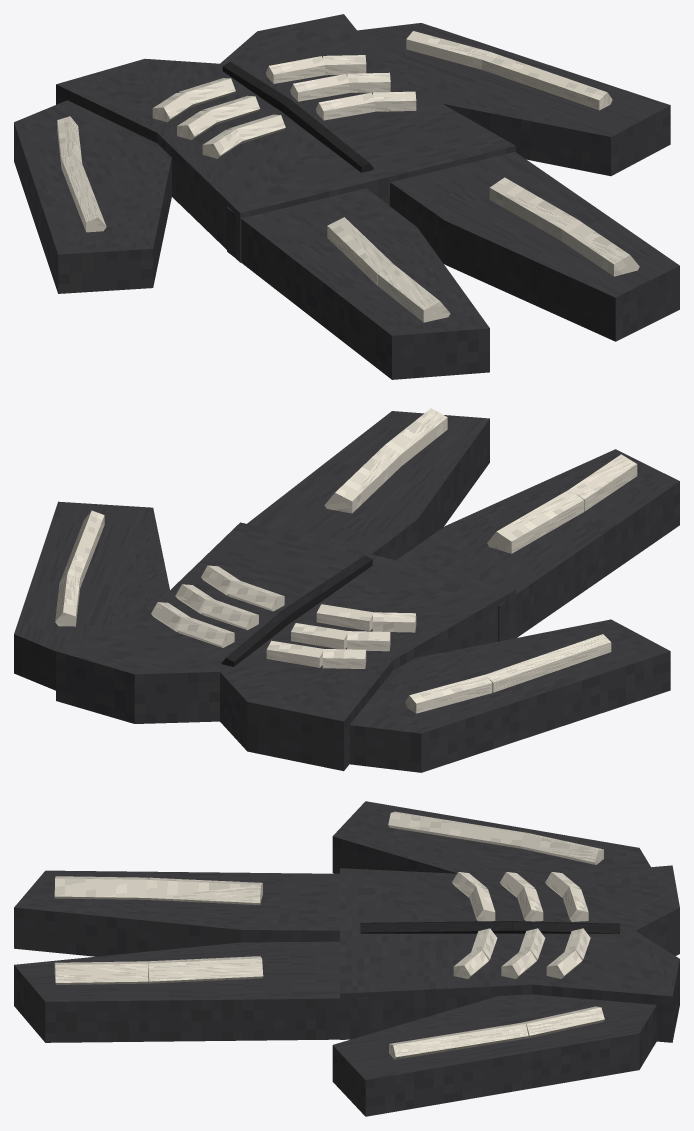
The model's file is jumpsuit_skeleton.glb.
3 renders of one model, top to bottom at view 1: azimuth 30°, elevation 25°; view 2: azimuth 150°, elevation 25°; view 3: azimuth 270°, elevation 25°, orthographic. The views are drawn at different scales.
Parts seen in each view (by area): view 1: block_leg (×2), block_sleeve (×2), block_one-piece torso, block_printed rib 0 (×6), block_printed rib 1 (×6), block_printed arm bone 1 (×2), block_printed shin bone 0 (×2), block_printed shin bone 1 (×2), block_printed arm bone 0 (×2), block_body zip 1, block_body zip 0; view 2: block_one-piece torso, block_sleeve (×2), block_leg (×2), block_printed rib 0 (×6), block_printed shin bone 0 (×2), block_printed rib 1 (×6), block_printed arm bone 1 (×2), block_printed shin bone 1 (×2), block_printed arm bone 0 (×2), block_body zip 1, block_body zip 0; view 3: block_leg (×2), block_one-piece torso, block_sleeve (×2), block_printed shin bone 0 (×2), block_printed arm bone 1 (×2), block_printed shin bone 1 (×2), block_printed rib 0 (×6), block_printed arm bone 0 (×2), block_printed rib 1 (×3), block_body zip 1, block_body zip 0.
Boxes of the visible parts, box(x1,y1,x2,y2) form: block_leg (×2): box(227, 152, 679, 379); block_sleeve (×2): box(14, 23, 670, 293); block_one-piece torso: box(56, 14, 515, 262); block_printed rib 0 (×6): box(178, 56, 375, 143); block_printed rib 1 (×6): box(152, 55, 416, 158); block_printed arm bone 1 (×2): box(61, 51, 612, 232); block_printed shin bone 0 (×2): box(327, 177, 577, 284); block_printed shin bone 1 (×2): box(377, 219, 639, 322); block_printed arm bone 0 (×2): box(57, 31, 489, 167); block_body zip 1: box(282, 99, 373, 172); block_body zip 0: box(222, 61, 289, 111); block_one-piece torso: box(56, 522, 515, 771); block_sleeve (×2): box(14, 501, 670, 772); block_leg (×2): box(247, 411, 679, 641); block_printed rib 0 (×6): box(177, 581, 373, 667); block_printed shin bone 0 (×2): box(324, 445, 583, 553); block_printed rib 1 (×6): box(151, 565, 416, 668); block_printed arm bone 1 (×2): box(60, 510, 611, 692); block_printed shin bone 1 (×2): box(385, 408, 637, 511); block_printed arm bone 0 (×2): box(55, 574, 492, 713); block_body zip 1: box(281, 555, 372, 623); block_body zip 0: box(221, 611, 288, 666); block_leg (×2): box(14, 870, 367, 1042); block_one-piece torso: box(340, 865, 679, 1042); block_sleeve (×2): box(332, 801, 656, 1116); block_printed shin bone 0 (×2): box(146, 877, 263, 983); block_printed arm bone 1 (×2): box(388, 811, 528, 1059); block_printed shin bone 1 (×2): box(54, 876, 148, 984); block_printed rib 0 (×6): box(469, 886, 590, 960); block_printed arm bone 0 (×2): box(520, 833, 604, 1038); block_printed rib 1 (×3): box(453, 950, 581, 978); block_body zip 1: box(360, 921, 512, 933); block_body zip 0: box(512, 921, 619, 933).
Size of the model in its own units: 0.7857 by 0.0779 by 0.7925.
Materials: 1 (1 with a texture image).
